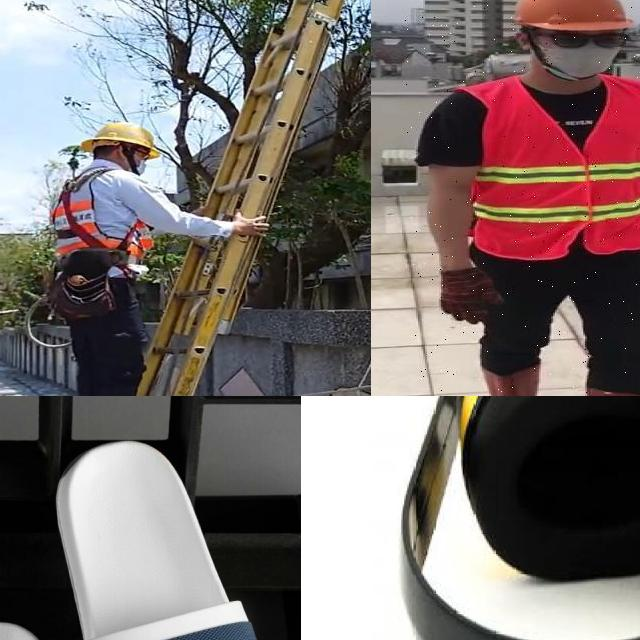Ear-protection: (412, 396, 640, 640)
Harness: (35, 166, 153, 326)
No_Ear-Protection: (506, 22, 540, 56)
Sandals: (0, 427, 285, 640)
boots: (478, 366, 546, 396)
head_helmet: (505, 0, 637, 32)
person: (405, 0, 640, 396)
vest: (466, 79, 640, 259)
